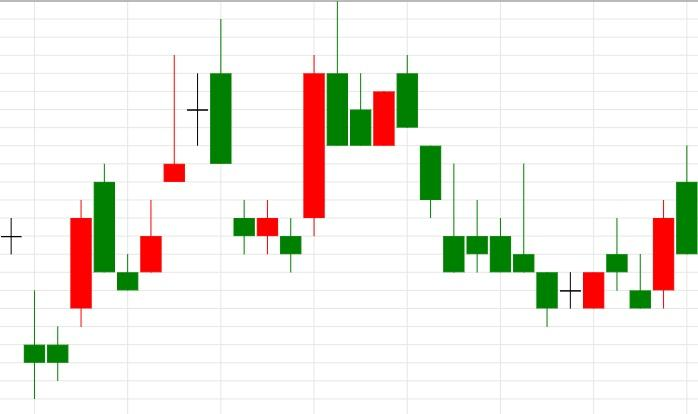shooting_star_fall: (116, 55, 186, 291)
three_black_crows_fall: (279, 0, 466, 274)
